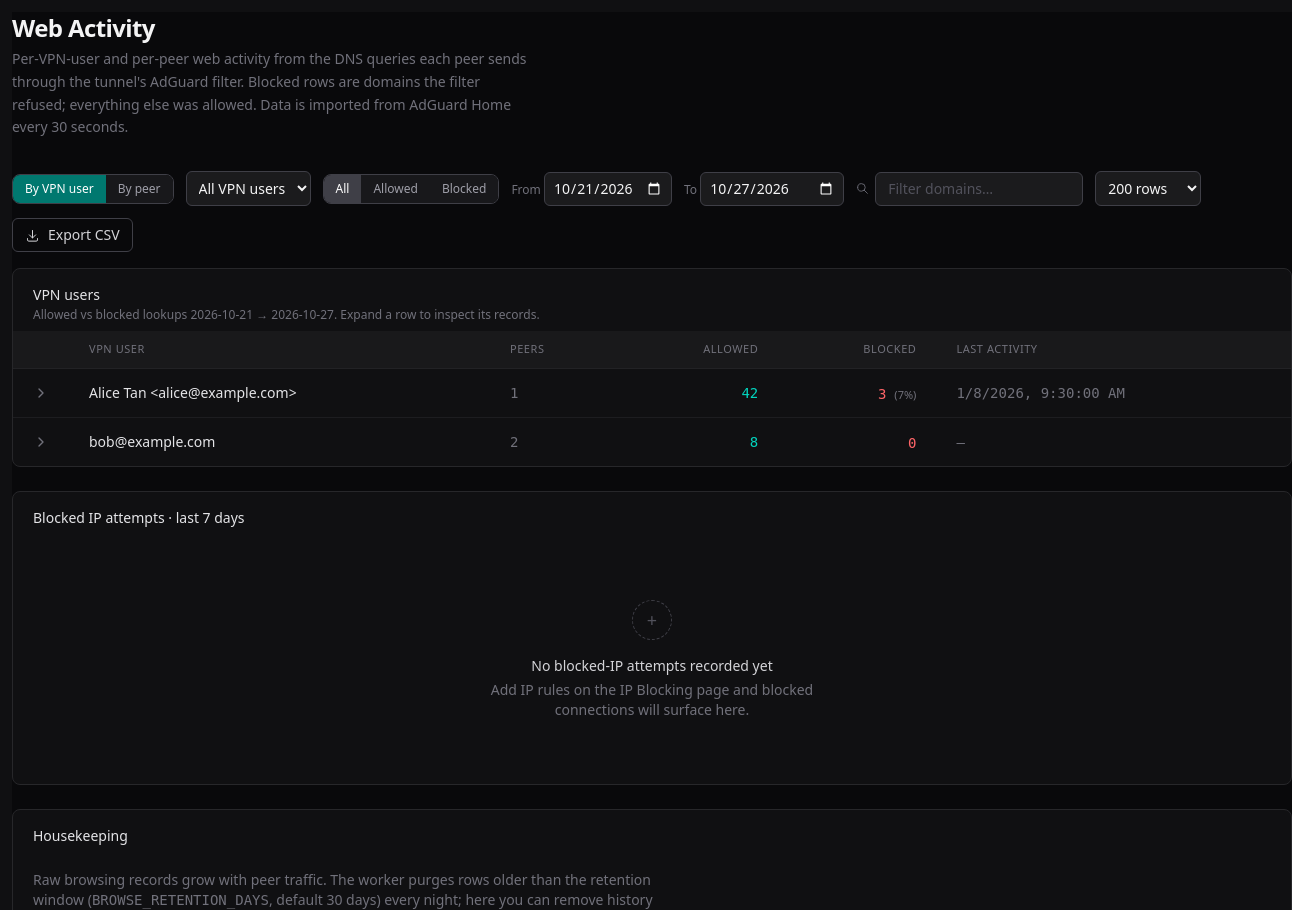
Test: WebActivityPage › expands a row to show its records with blocked/allowed badges
Expected: the text "Alice Tan <alice@example.com>" is shown, [69,368,490,417]
Click the text "Alice Tan <alice@example.com>" at {"x": 652, "y": 392}, box [13,368,1291,417]
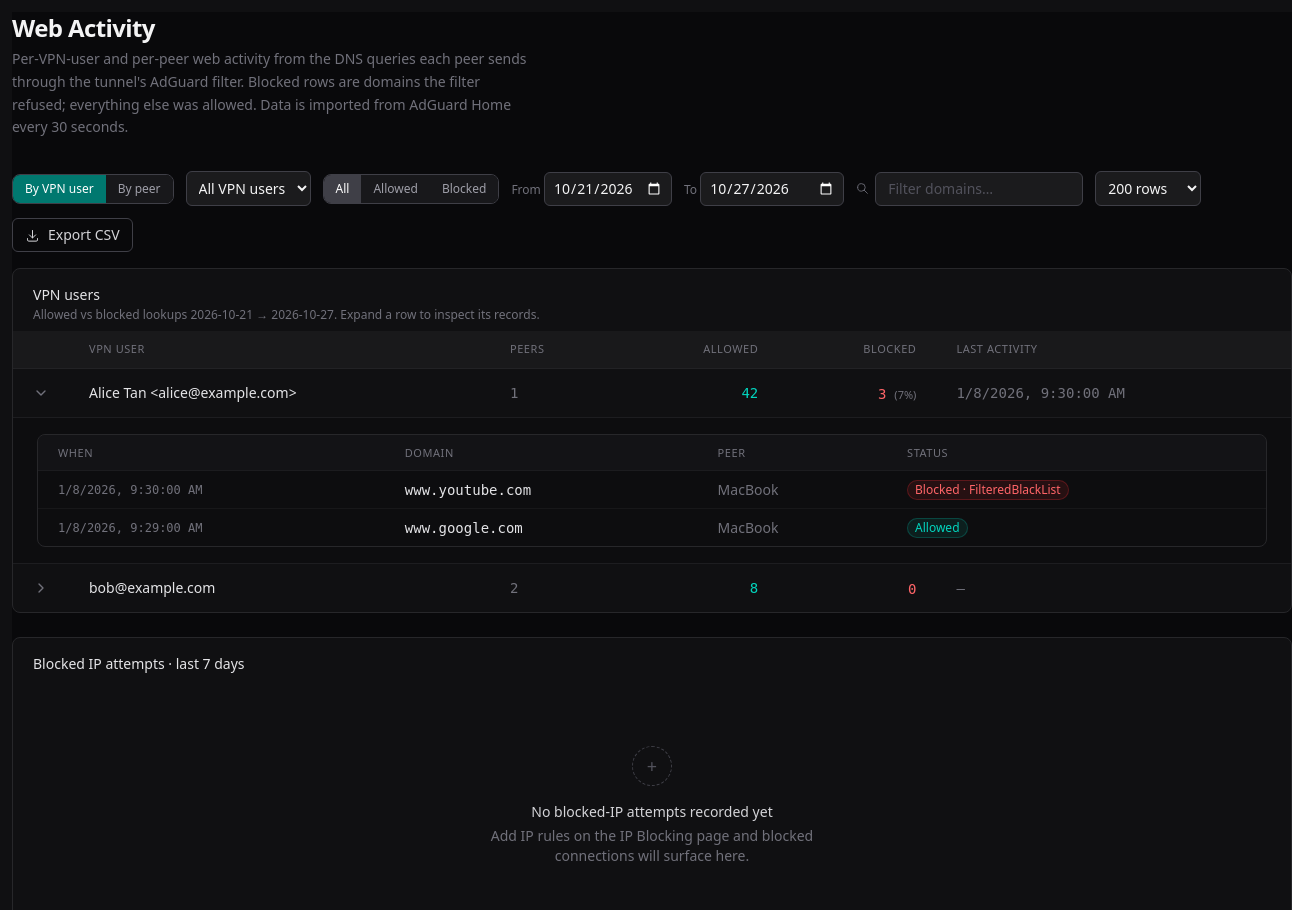
Expected: the text "www.youtube.com" is shown, [385,471,698,509]
Expected: the text "Blocked · FilteredBlackList" is shown, [907,480,1069,500]
Expected: the text "www.google.com" is shown, [385,509,698,546]
